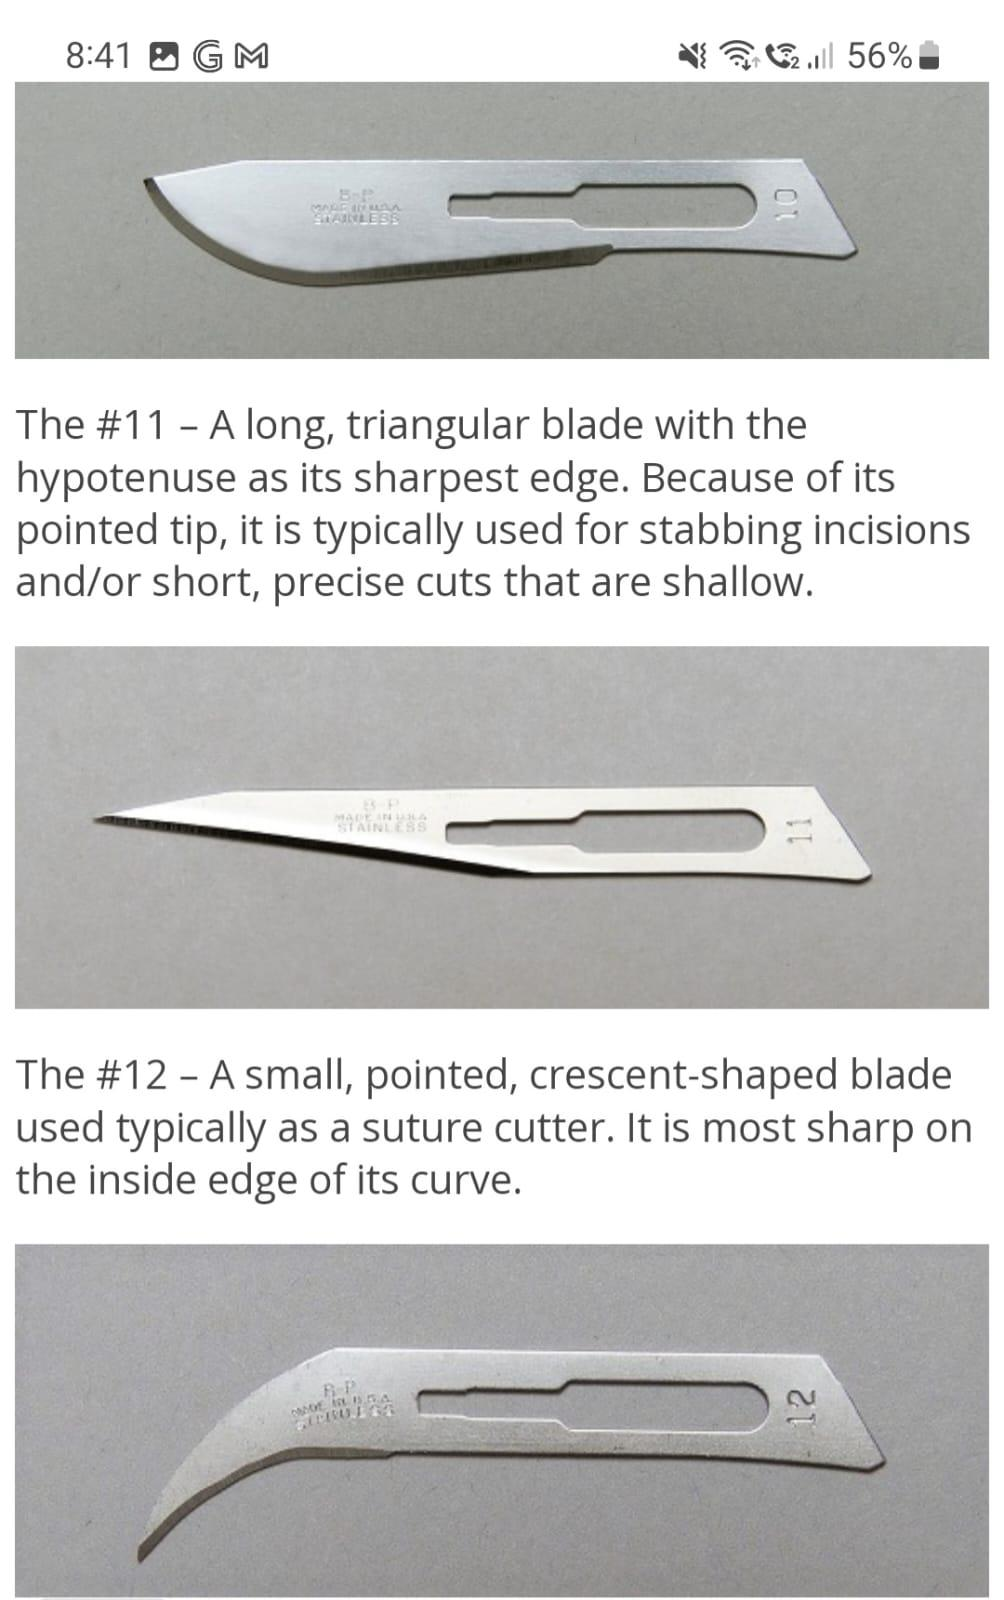Surgical blade: (123, 1312, 900, 1585), (84, 745, 880, 912), (140, 129, 874, 290)
